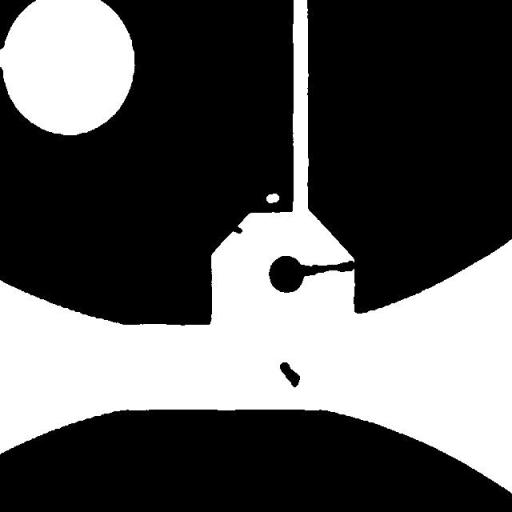copper: (272, 354, 307, 394)
pin-hole: (258, 186, 286, 210)
short: (286, 253, 362, 284)
spur: (220, 215, 250, 241)
